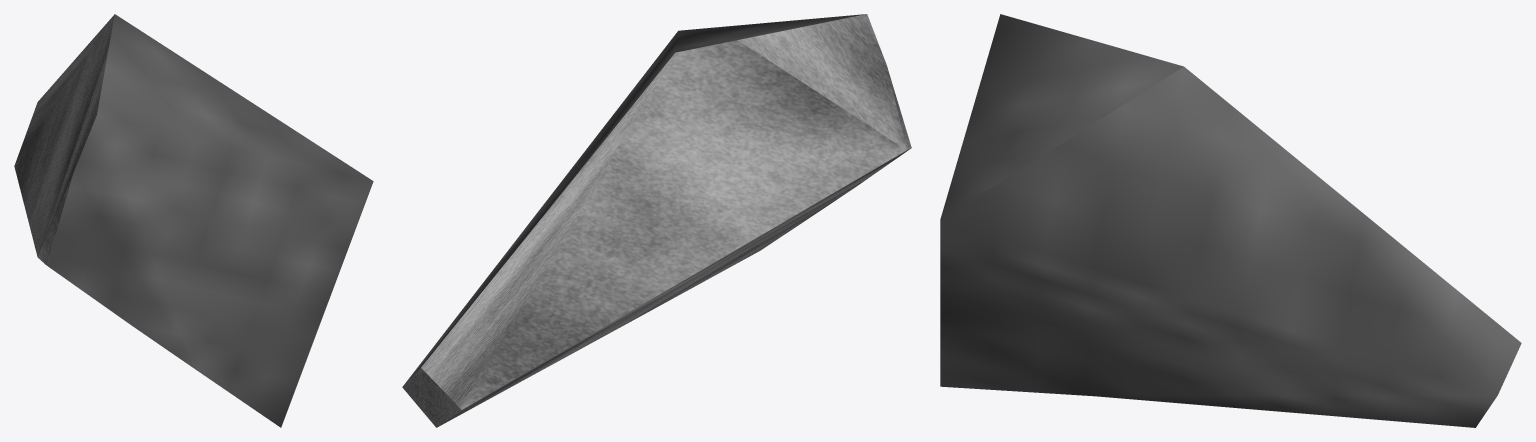
Rendered from leg_1_cell.fbx.
The picture shows the model from 3 angles, left to right: view 1: azimuth 30°, elevation 25°; view 2: azimuth 150°, elevation 25°; view 3: azimuth 270°, elevation 25°; orthographic projection. The views are drawn at different scales.
Visible parts, largest first — view 1: leg_1_cell; view 2: leg_1_cell; view 3: leg_1_cell.
Part boxes in pixels (bbox=[...]): leg_1_cell: bbox=[14, 14, 373, 427]; leg_1_cell: bbox=[402, 14, 911, 427]; leg_1_cell: bbox=[940, 14, 1521, 427].
Bounding box in the file's own units: 13.26 × 13.79 × 23.39.
